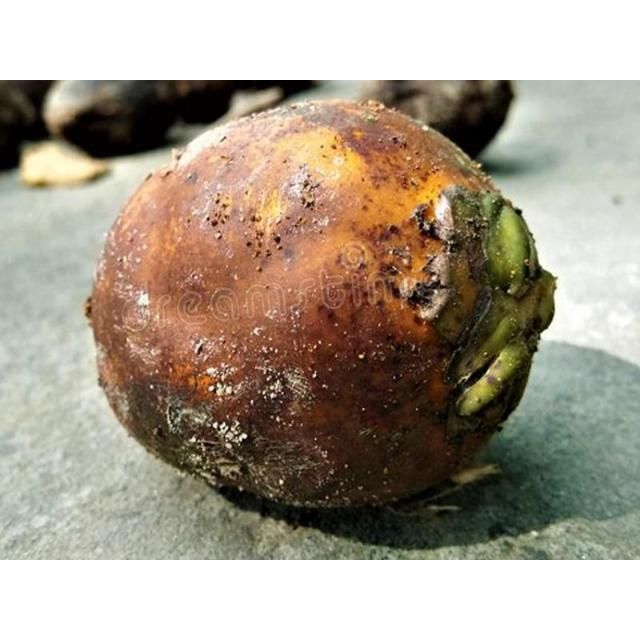damaged: (86, 101, 557, 514)
